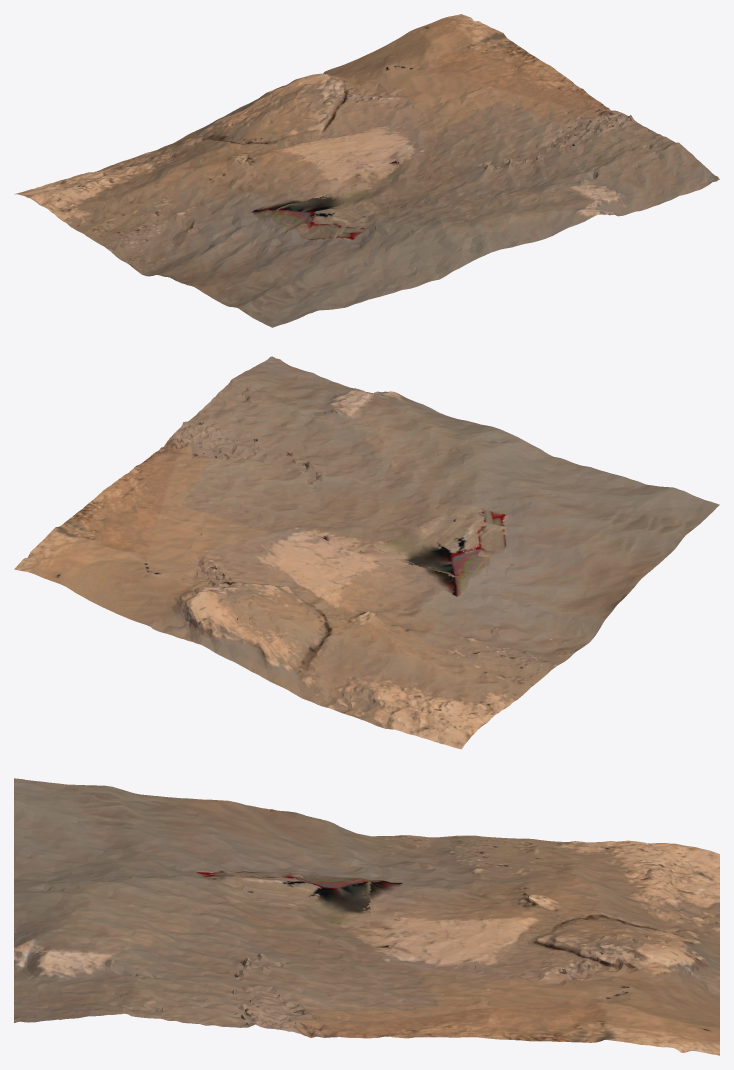
3 views of the same model, one above another, from view 1: azimuth 30°, elevation 25°; view 2: azimuth 150°, elevation 25°; view 3: azimuth 270°, elevation 25° (orthographic). The views are drawn at different scales.
Size of the model in its own units: 2.09 by 0.4533 by 2.09.
3 materials, 3 textured.
